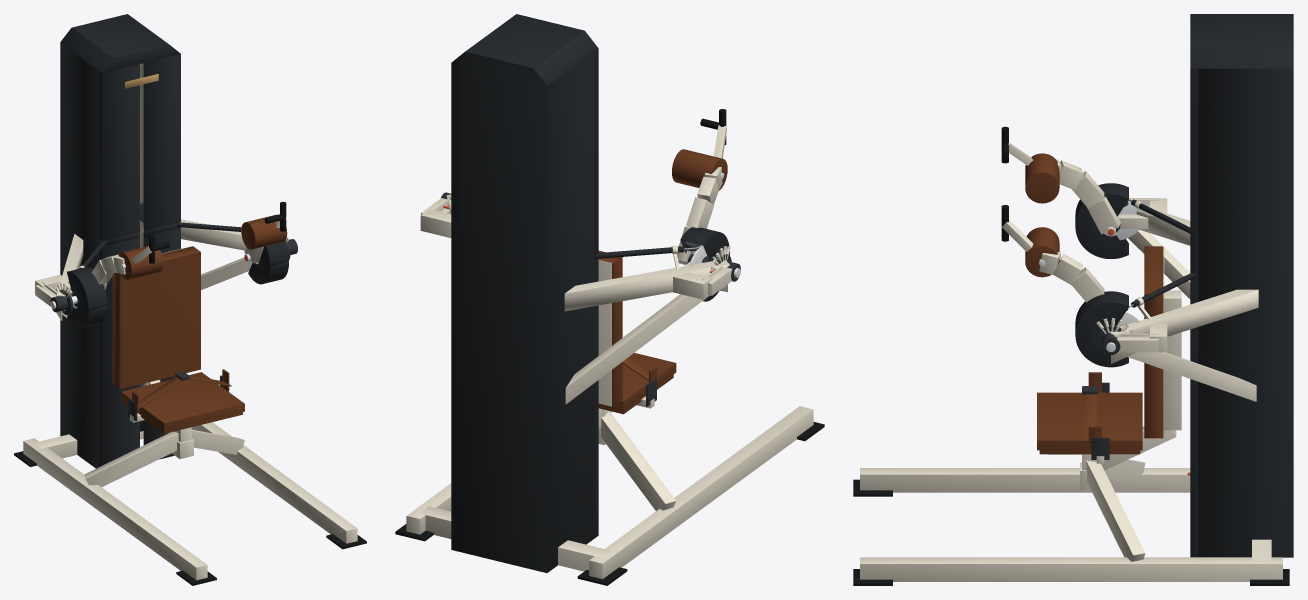
3 renders of one model, left to right at view 1: azimuth 30°, elevation 25°; view 2: azimuth 150°, elevation 25°; view 3: azimuth 270°, elevation 25°, orthographic. The views are drawn at different scales.
Visible parts, largest first — view 1: shroud.001, leather, shroud.008, shroud.011, cframe, leather__adj.001, shroud.007, cframe.001, shroud.014, cframe.003, cframe.053, leather.006 (+14 smaller); view 2: shroud, shroud.001, cframe, shroud.014, cframe.021, cframe.022, cframe.003, cframe.002, leather__adj.001, shroud.015, leather.005, cframe.011 (+8 smaller); view 3: shroud.004, cframe.001, cframe, leather__adj.001, shroud.014, cframe.053, leather, shroud.016, cframe.004, cframe.054, shroud.005, shroud.006 (+14 smaller).
Boxes of the visible parts, left/top/right/bottom form: shroud.001: left=60, top=42, right=99, bottom=468; leather: left=112, top=246, right=200, bottom=388; shroud.008: left=102, top=64, right=139, bottom=240; shroud.011: left=143, top=54, right=180, bottom=230; cframe: left=23, top=438, right=207, bottom=580; leather__adj.001: left=121, top=372, right=244, bottom=431; shroud.007: left=102, top=237, right=139, bottom=464; cframe.001: left=191, top=422, right=357, bottom=543; shroud.014: left=72, top=14, right=169, bottom=58; cframe.003: left=84, top=431, right=178, bottom=487; cframe.053: left=142, top=219, right=286, bottom=250; leather.006: left=241, top=214, right=287, bottom=249; shroud: left=451, top=51, right=546, bottom=572; shroud.001: left=547, top=51, right=594, bottom=572; cframe: left=589, top=406, right=813, bottom=579; shroud.014: left=465, top=14, right=584, bottom=68; cframe.021: left=564, top=260, right=729, bottom=311; cframe.022: left=565, top=294, right=708, bottom=404; cframe.003: left=601, top=411, right=675, bottom=510; cframe.002: left=419, top=506, right=610, bottom=571; leather__adj.001: left=598, top=353, right=676, bottom=410; shroud.015: left=533, top=31, right=598, bottom=85; leather.005: left=672, top=149, right=727, bottom=190; cframe.011: left=598, top=260, right=611, bottom=406; shroud.004: left=1198, top=68, right=1293, bottom=557; cframe.001: left=860, top=557, right=1282, bottom=581; cframe: left=860, top=468, right=1190, bottom=492; leather__adj.001: left=1037, top=392, right=1142, bottom=450; shroud.014: left=1190, top=14, right=1293, bottom=47; cframe.053: left=1108, top=289, right=1258, bottom=337; leather: left=1144, top=246, right=1163, bottom=438; shroud.016: left=1190, top=47, right=1293, bottom=68; cframe.004: left=1086, top=460, right=1145, bottom=561; cframe.054: left=1117, top=352, right=1256, bottom=401; shroud.005: left=1190, top=280, right=1198, bottom=557; shroud.006: left=1190, top=68, right=1198, bottom=273.
Size of the model in its own units: 1.3 by 2.1 by 1.67.
